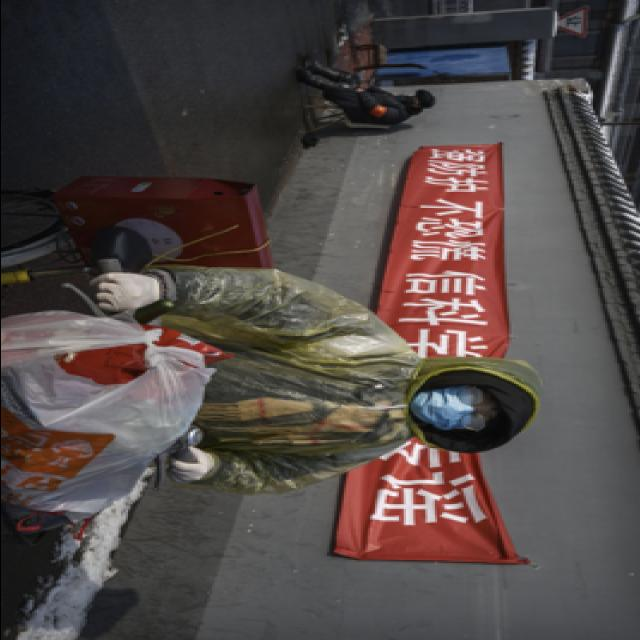with_mask: (410, 384, 498, 432)
